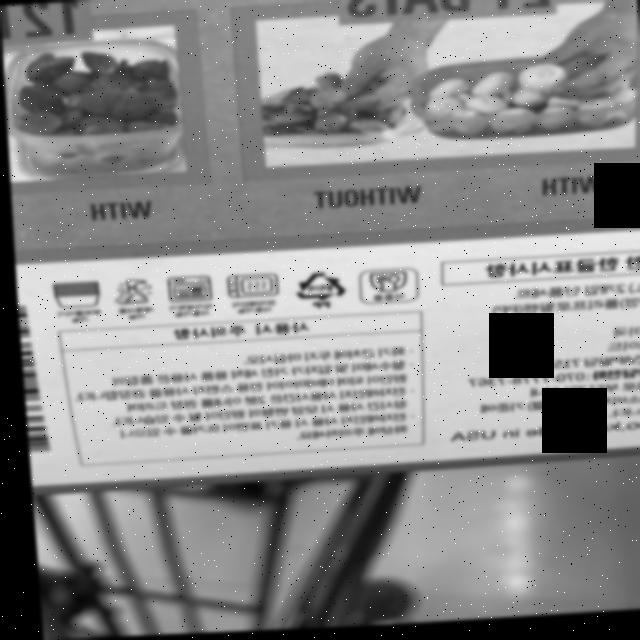Plastic: (289, 272, 345, 305)
